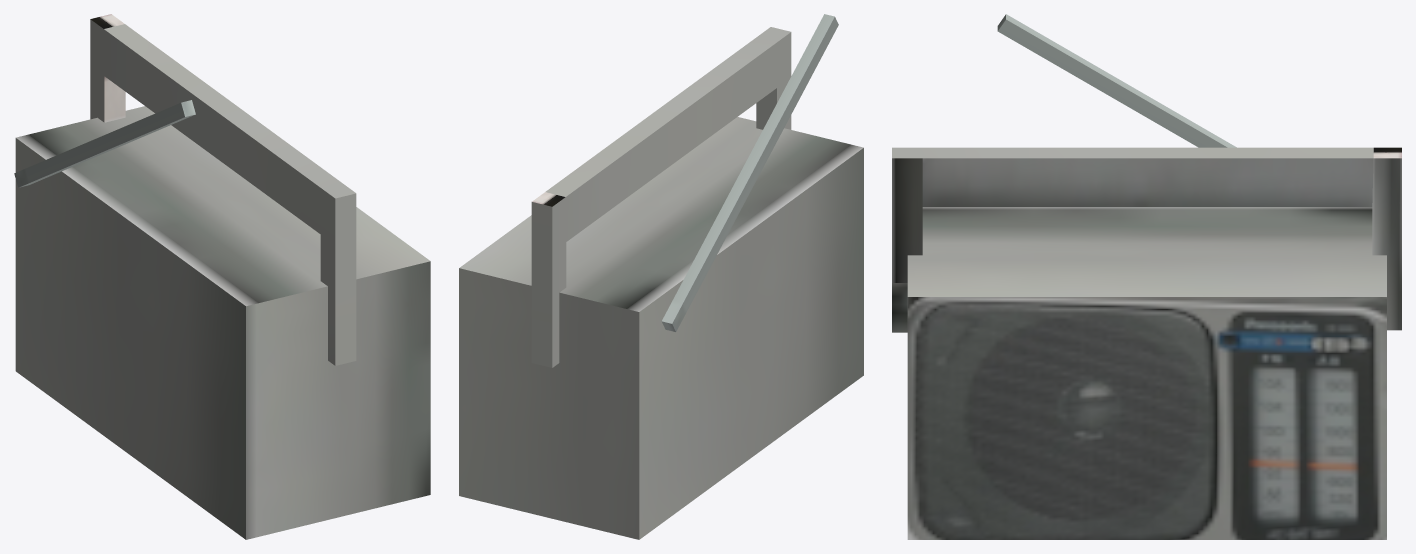
The model's file is radio.fbx.
The picture shows the model from 3 angles, left to right: view 1: azimuth 30°, elevation 25°; view 2: azimuth 150°, elevation 25°; view 3: azimuth 270°, elevation 25°; orthographic projection. The views are drawn at different scales.
Parts seen in each view (by area): view 1: Cube, Cube.001, Cube.002; view 2: Cube, Cube.001, Cube.002; view 3: Cube, Cube.001, Cube.002.
Boxes of the visible parts, x1=… form: Cube: x1=15, y1=106, x2=430, y2=539; Cube.001: x1=90, y1=14, x2=356, y2=365; Cube.002: x1=14, y1=100, x2=195, y2=187; Cube: x1=459, y1=117, x2=863, y2=539; Cube.001: x1=531, y1=27, x2=791, y2=367; Cube.002: x1=661, y1=14, x2=838, y2=331; Cube: x1=907, y1=207, x2=1386, y2=539; Cube.001: x1=892, y1=147, x2=1401, y2=332; Cube.002: x1=997, y1=14, x2=1236, y2=147.
Bounding box in the file's own units: 101 × 195 × 213.
